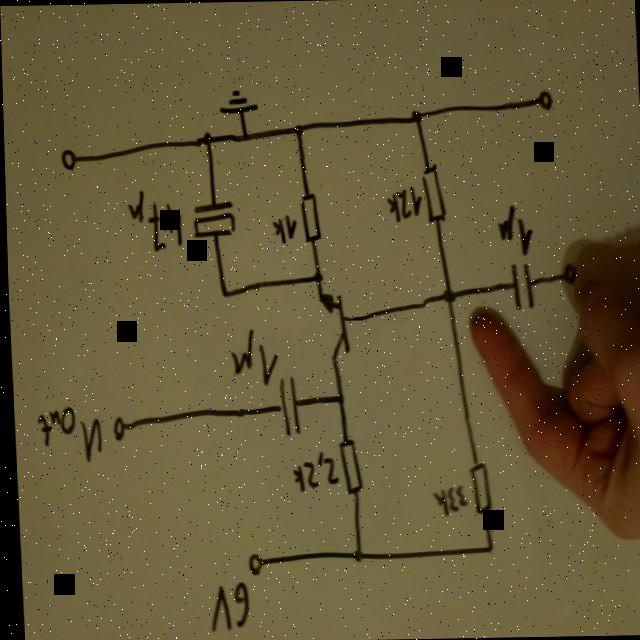capacitor: (268, 376, 308, 440), (499, 260, 543, 315), (187, 198, 239, 242)
ground: (217, 86, 260, 123)
junction: (438, 285, 457, 311), (347, 547, 363, 567), (308, 270, 325, 288), (409, 109, 426, 127), (199, 132, 215, 150), (291, 122, 307, 140), (482, 542, 494, 560), (333, 392, 345, 409), (239, 132, 251, 146), (217, 288, 228, 302)
resistor: (333, 436, 364, 499), (464, 460, 495, 520), (420, 163, 448, 229), (296, 188, 323, 248)
terminal: (54, 144, 80, 174), (533, 87, 555, 113), (107, 414, 126, 444), (559, 262, 579, 290), (242, 552, 263, 578)
text: (122, 186, 189, 256), (30, 403, 104, 465), (223, 326, 282, 387), (488, 202, 538, 260), (204, 577, 250, 636), (285, 451, 338, 496), (383, 183, 425, 224), (429, 482, 469, 521), (267, 212, 299, 248)
transistor: (311, 290, 352, 365)
